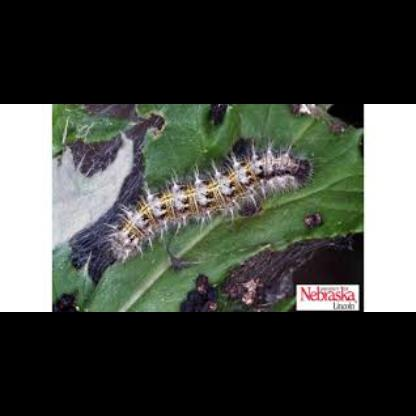oruga: (110, 155, 312, 259)
